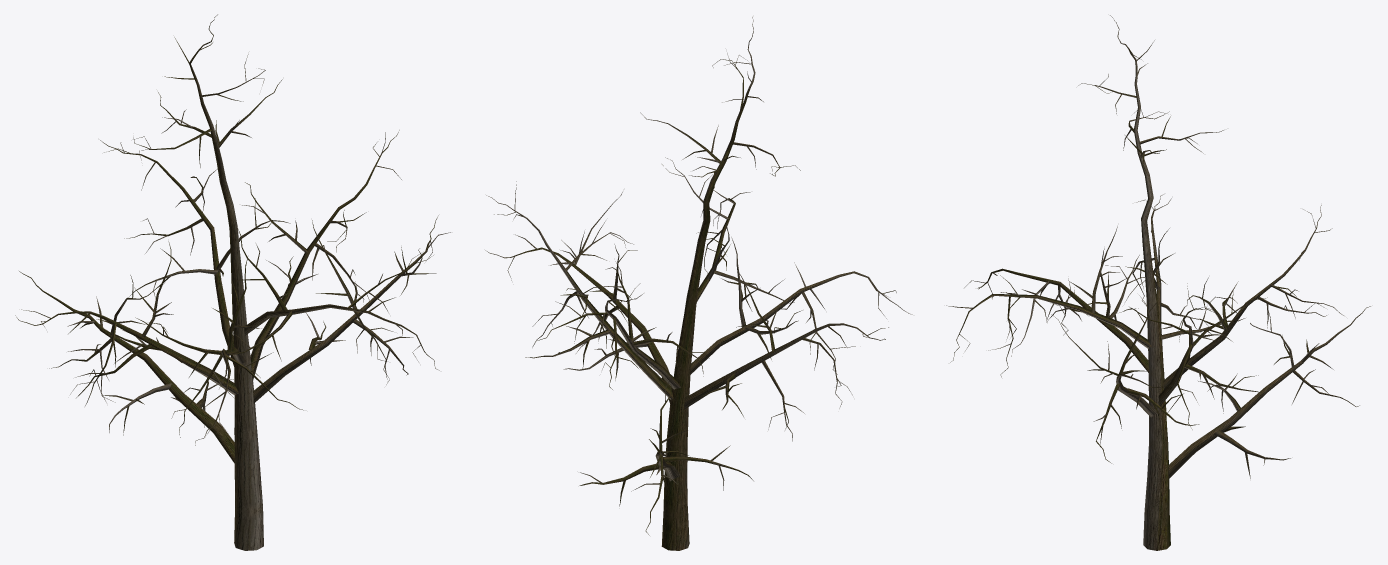
Rendered from dead-tree.glb.
3 renders of one model, left to right at view 1: azimuth 30°, elevation 25°; view 2: azimuth 150°, elevation 25°; view 3: azimuth 270°, elevation 25°, orthographic. The views are drawn at different scales.
Parts seen in each view (by area): view 1: dead_tree; view 2: dead_tree; view 3: dead_tree.
Boxes of the visible parts, x1,y1,x2,y2 form: dead_tree: (15, 14, 450, 550); dead_tree: (485, 17, 912, 550); dead_tree: (946, 15, 1370, 550).
Size of the model in its own units: 2.92 by 3.69 by 2.84.
Materials: 1 (1 with a texture image).
